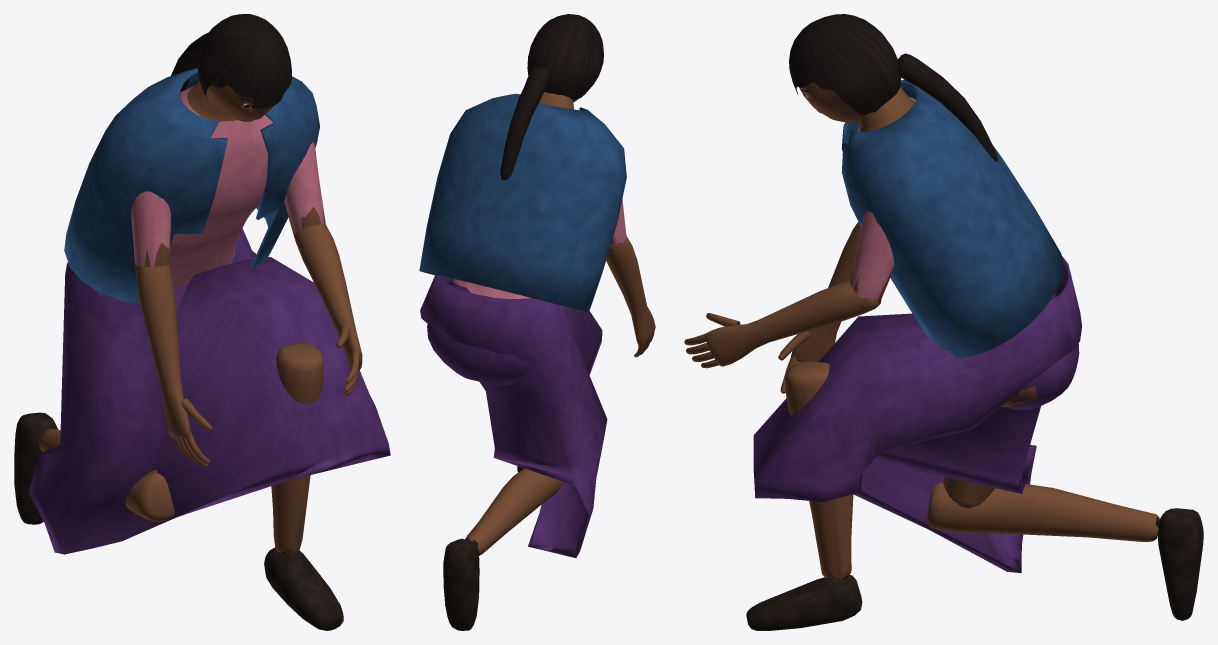
The model's file is persona_mujer_agachada_medio.obj.
The picture shows the model from 3 angles, left to right: view 1: azimuth 30°, elevation 25°; view 2: azimuth 150°, elevation 25°; view 3: azimuth 270°, elevation 25°; orthographic projection. The views are drawn at different scales.
Parts seen in each view (by area): view 1: persona_mujer_agachada; view 2: persona_mujer_agachada; view 3: persona_mujer_agachada.
Boxes of the visible parts, bbox=[...] form: persona_mujer_agachada: bbox=[14, 14, 390, 630]; persona_mujer_agachada: bbox=[419, 14, 655, 630]; persona_mujer_agachada: bbox=[684, 14, 1203, 630].
Bounding box in the file's own units: 0.5356 × 1.29 × 0.9781.
12 materials, 12 textured.
